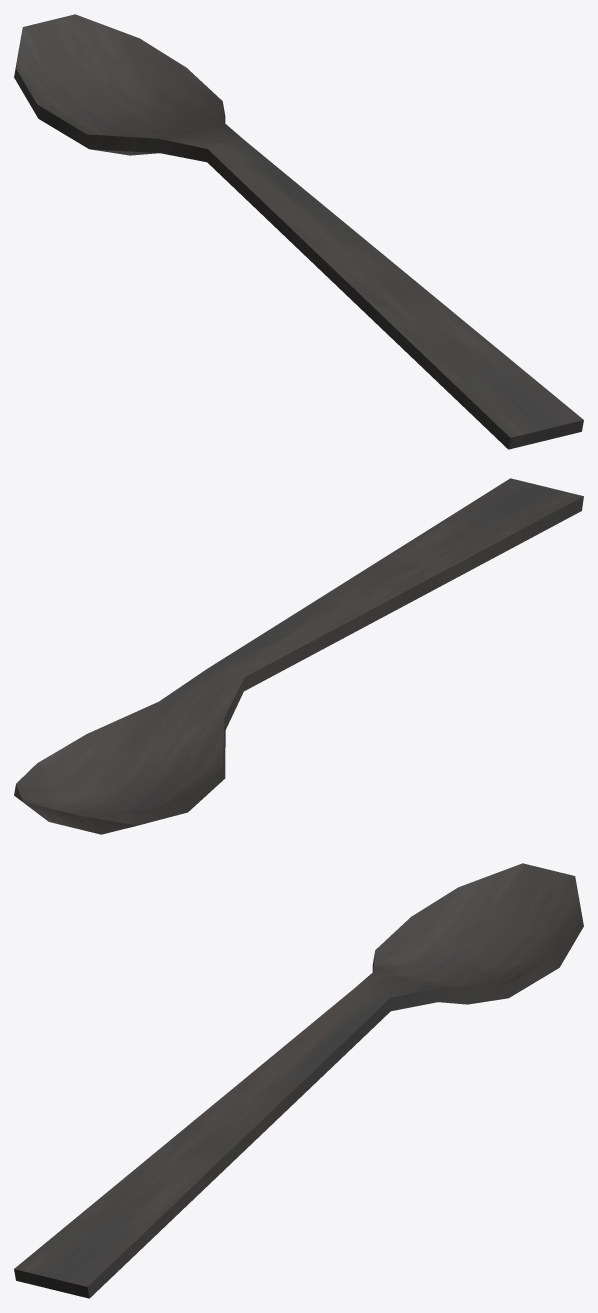
File: Dw_Spoon.glb
The picture shows the model from 3 angles, top to bottom: view 1: azimuth 30°, elevation 25°; view 2: azimuth 150°, elevation 25°; view 3: azimuth 330°, elevation 25°; orthographic projection.
Visible parts, largest first — view 1: Dw_Spoon; view 2: Dw_Spoon; view 3: Dw_Spoon.
Part boxes in pixels (x1=…): Dw_Spoon: x1=14, y1=14, x2=583, y2=449; Dw_Spoon: x1=14, y1=478, x2=583, y2=834; Dw_Spoon: x1=14, y1=863, x2=583, y2=1298.
Bounding box in the file's own units: 0.0401 × 0.016 × 0.2313.
Materials: 1 (1 with a texture image).
